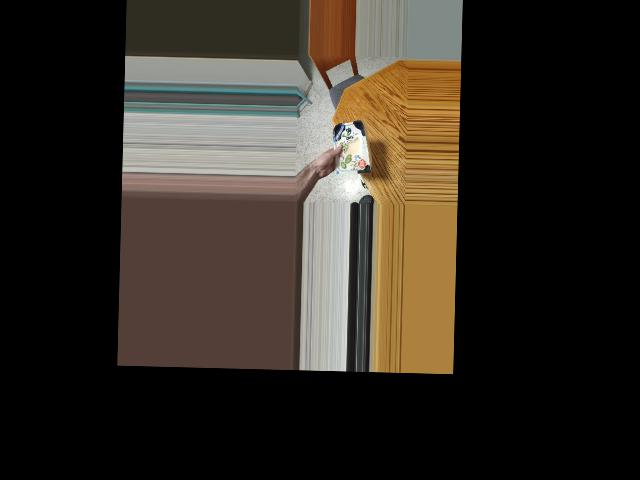cheese: (331, 118, 369, 167)
